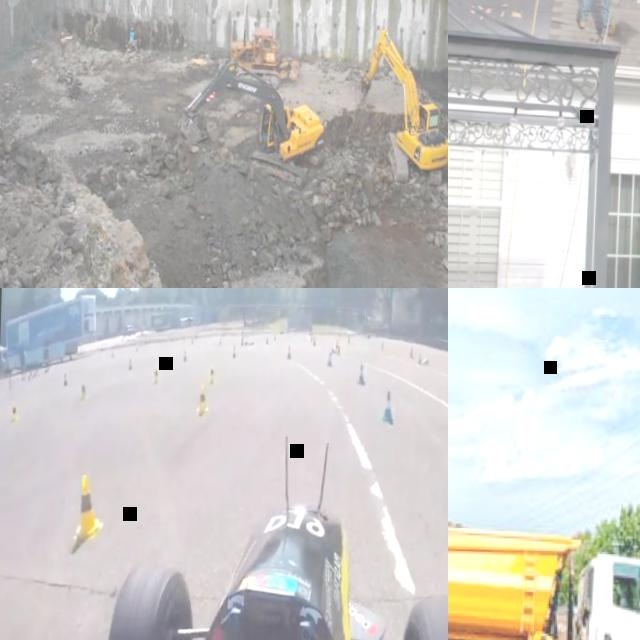Hardhat: (129, 27, 133, 31)
Person: (127, 25, 135, 47)
Safety Cone: (77, 474, 100, 538), (195, 381, 211, 419), (378, 390, 396, 422), (357, 360, 366, 395), (10, 399, 21, 423), (151, 363, 159, 385), (80, 381, 88, 402), (285, 343, 293, 361), (208, 366, 214, 385), (127, 356, 133, 371), (326, 354, 332, 368), (231, 345, 236, 359), (417, 353, 421, 370), (330, 347, 337, 356), (63, 370, 67, 385), (422, 358, 428, 366), (182, 350, 186, 361), (379, 342, 383, 352), (337, 344, 340, 357), (110, 351, 114, 360), (346, 336, 349, 346), (240, 337, 243, 347), (312, 338, 315, 347), (265, 337, 268, 345), (310, 335, 312, 342), (273, 335, 275, 342)
Safety Vest: (128, 33, 133, 43)
machinery: (448, 517, 640, 640), (176, 58, 329, 190), (353, 25, 448, 191), (216, 26, 282, 88)
vehicle: (62, 492, 448, 640)
